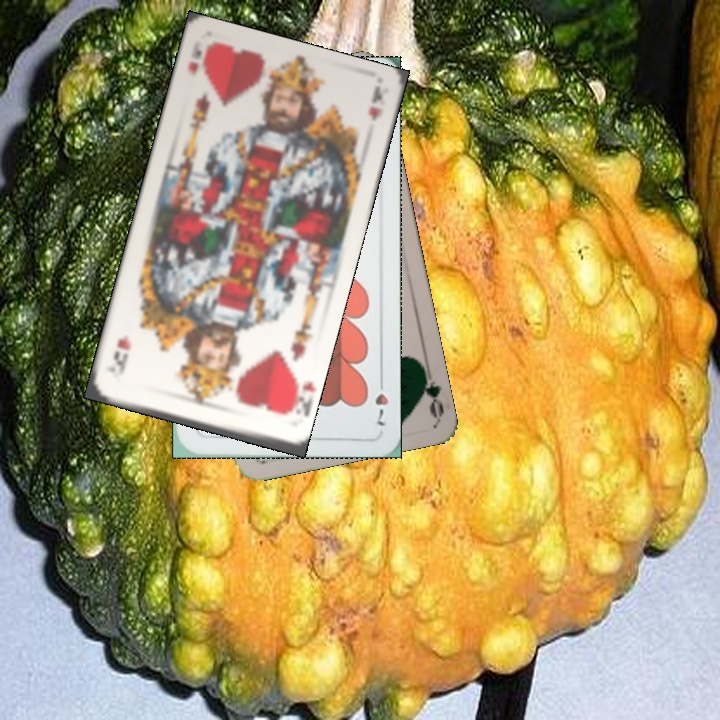GO: (416, 359, 447, 418)
H7: (371, 372, 391, 429)
HK: (279, 368, 312, 418), (184, 39, 205, 80)
